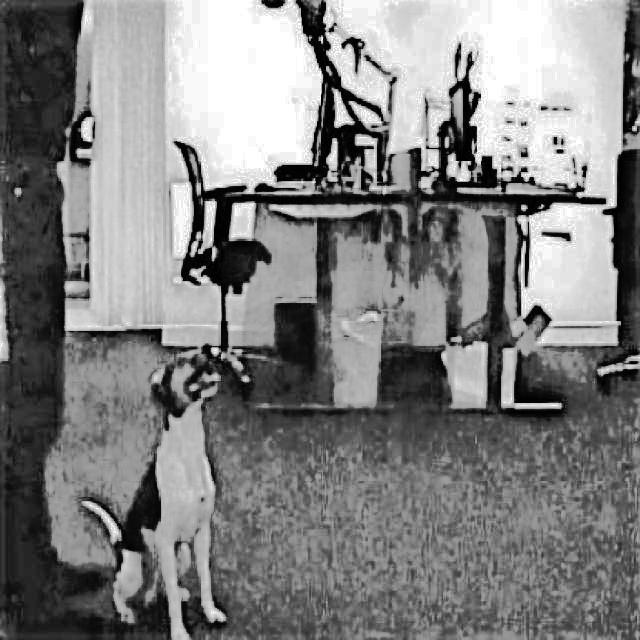Dog: (79, 337, 233, 640), (166, 129, 275, 397)
